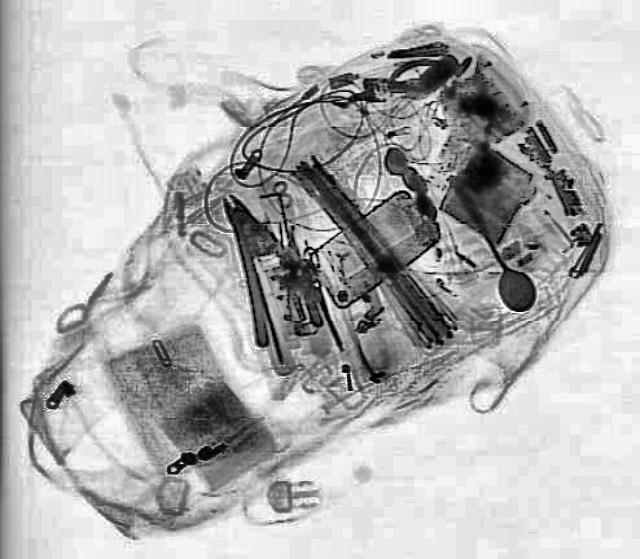Pliers: (182, 180, 344, 348)
